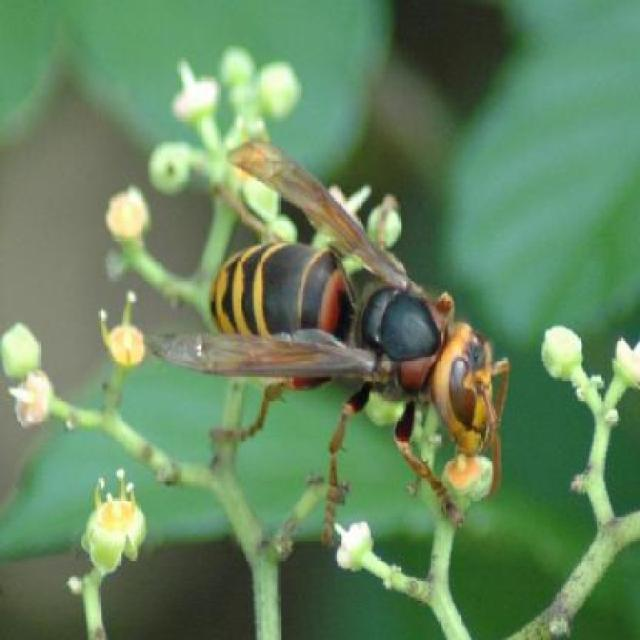Wasp: (152, 128, 515, 536)
